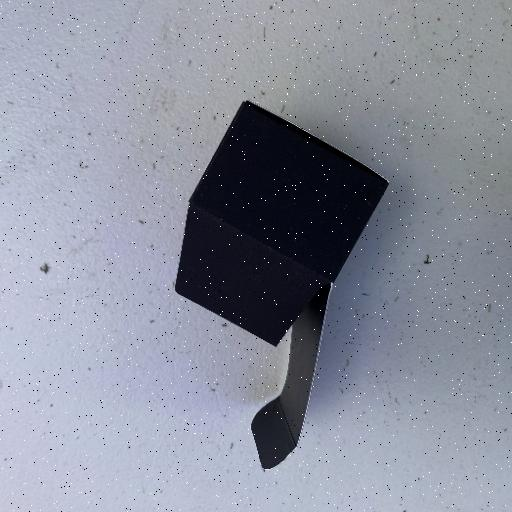Cardboard: (172, 98, 391, 472)
